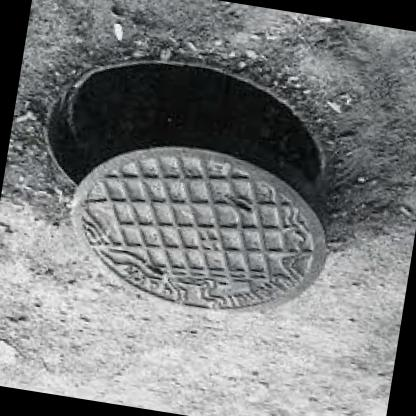manholes: (0, 0, 407, 351)
